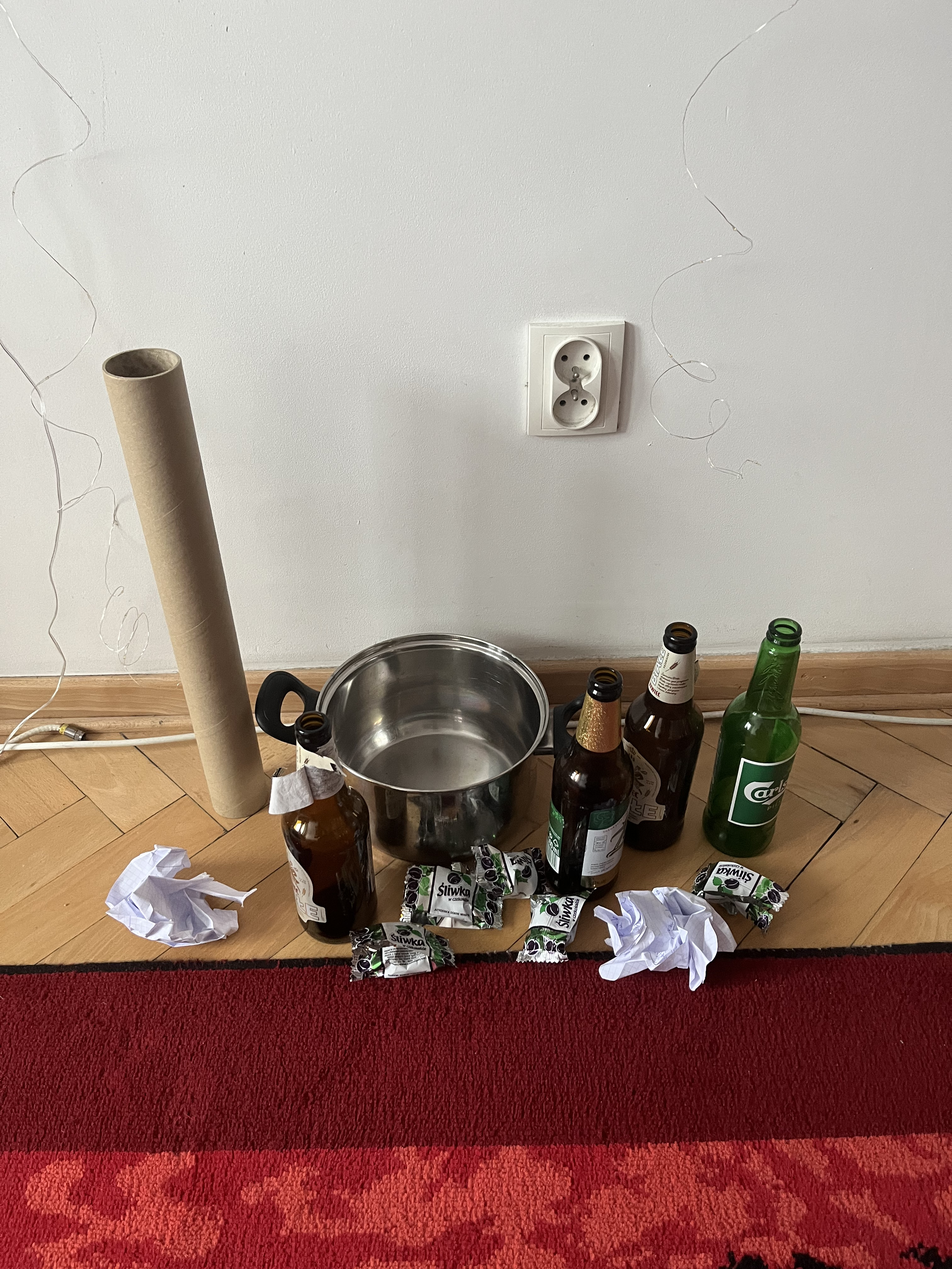CARDBOARD: (60, 350, 227, 853)
GLASS: (714, 607, 810, 870), (544, 665, 647, 908), (616, 619, 705, 862), (547, 665, 558, 679)
METAL: (317, 628, 558, 867), (264, 724, 344, 959)
PLASTIC: (682, 849, 800, 938), (340, 919, 460, 997), (393, 860, 509, 929), (514, 884, 592, 978), (474, 838, 536, 911)
